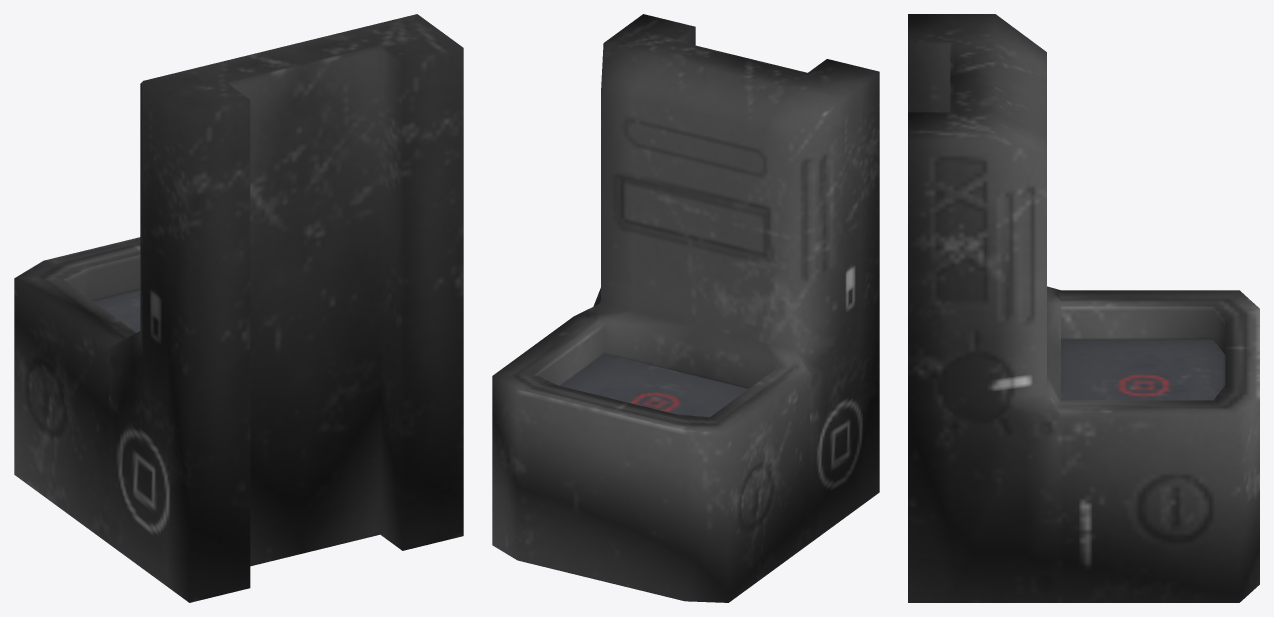
Rendered from TLOG_Holosight.fbx.
3 views of the same model, side by side, from view 1: azimuth 30°, elevation 25°; view 2: azimuth 150°, elevation 25°; view 3: azimuth 270°, elevation 25° (orthographic). The views are drawn at different scales.
Visible parts, largest first — view 1: Holosight; view 2: Holosight; view 3: Holosight.
Boxes of the visible parts, x1,y1,x2,y2 form: Holosight: [14, 14, 463, 602]; Holosight: [492, 14, 879, 602]; Holosight: [908, 14, 1259, 602].
Bounding box in the file's own units: 0.0259 × 0.0441 × 0.0304.
